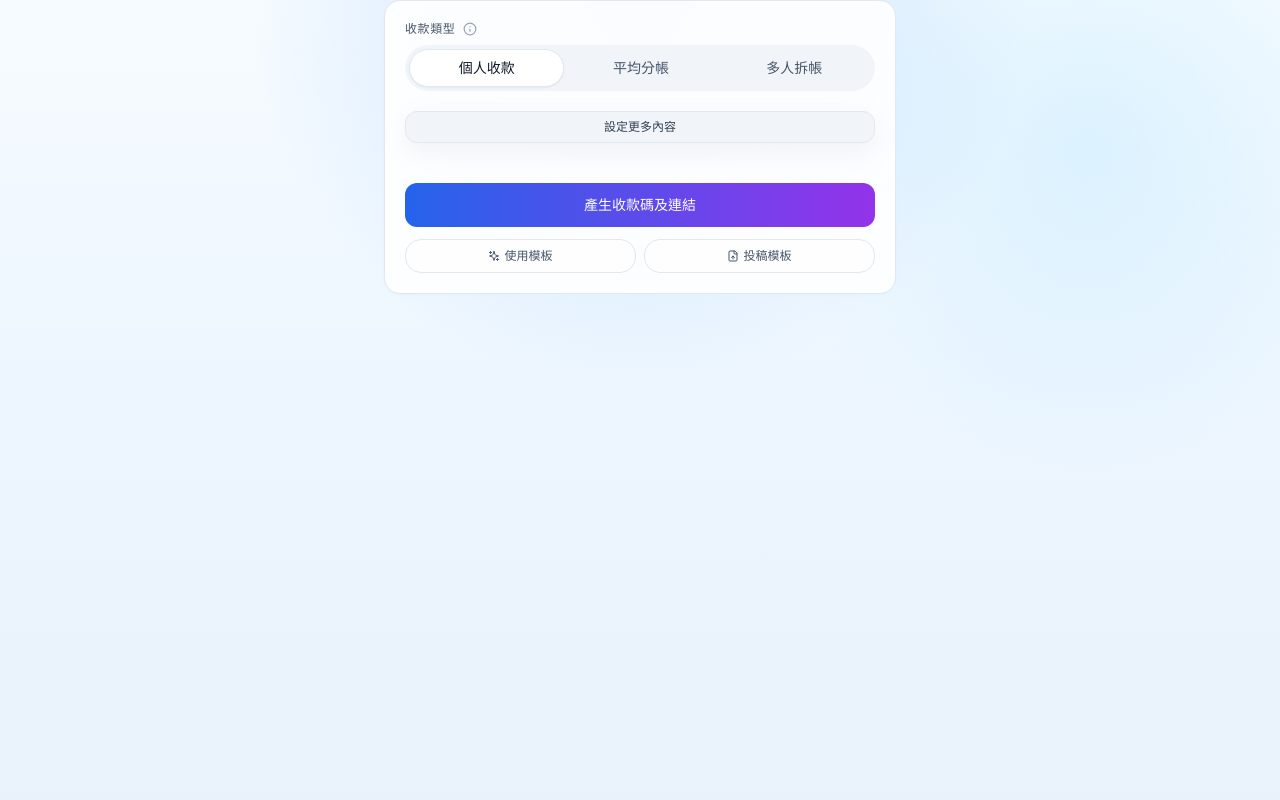
it: Generator Integration Tests › 多人拆帳流程：新增項目並全選成員，應正確計算總金額
Click the button "多人拆帳": [794, 68] box [718,50,871,86]
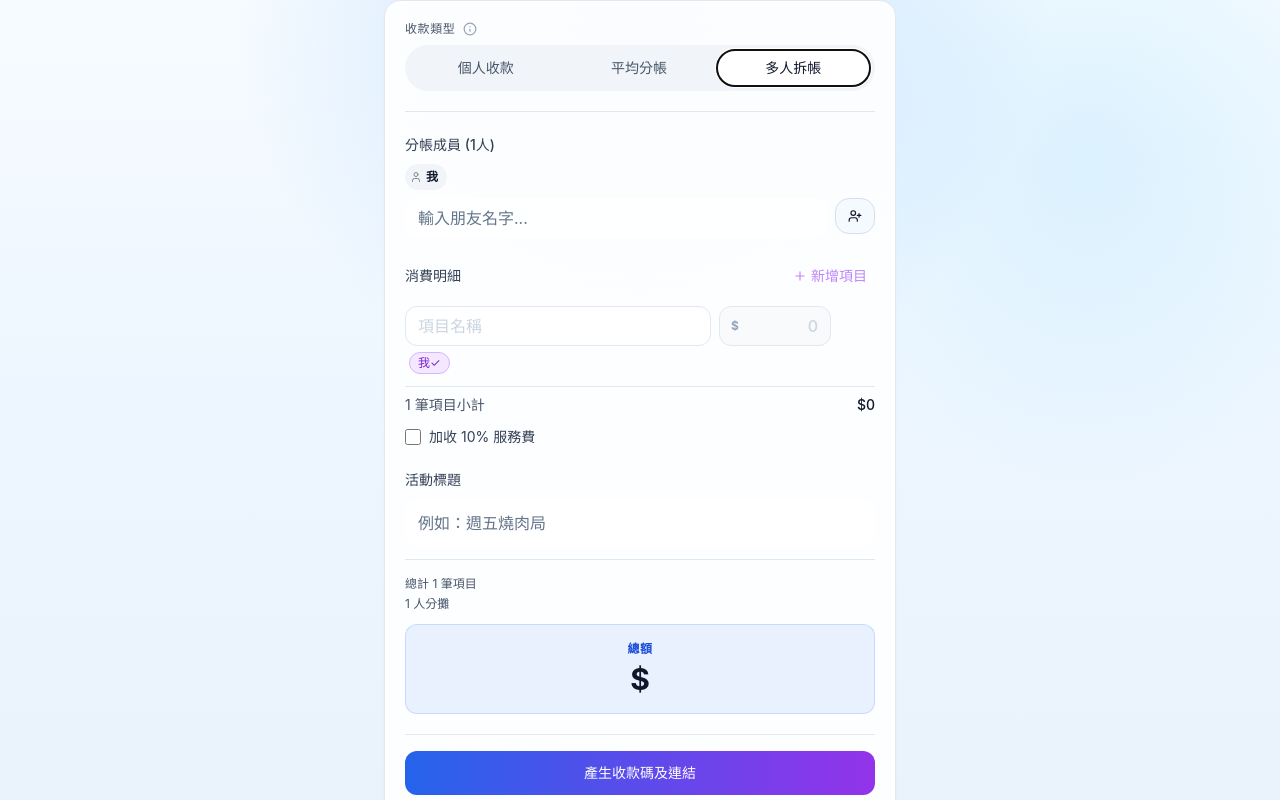
Expected: the field with placeholder "例如：週五燒肉局" is shown
Note: 2. 設定活動標題
In the field with placeholder "例如：週五燒肉局": [640, 523] box [405,499,875,547], type "KTV Night"
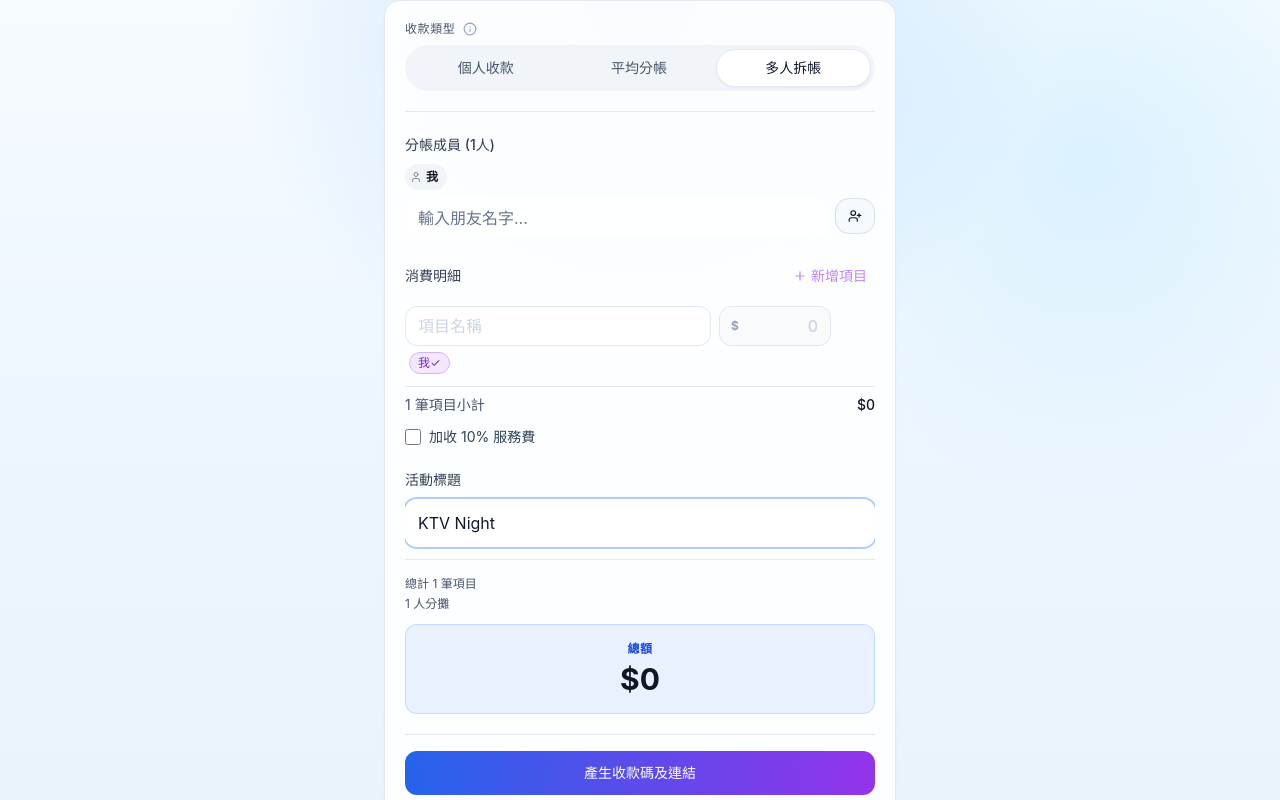
Note: 新增成員 "Bob" (預設已有 "我")
In the field with placeholder "輸入朋友名字...": [616, 218] box [405,198,827,238], type "Bob"
Then press Enter
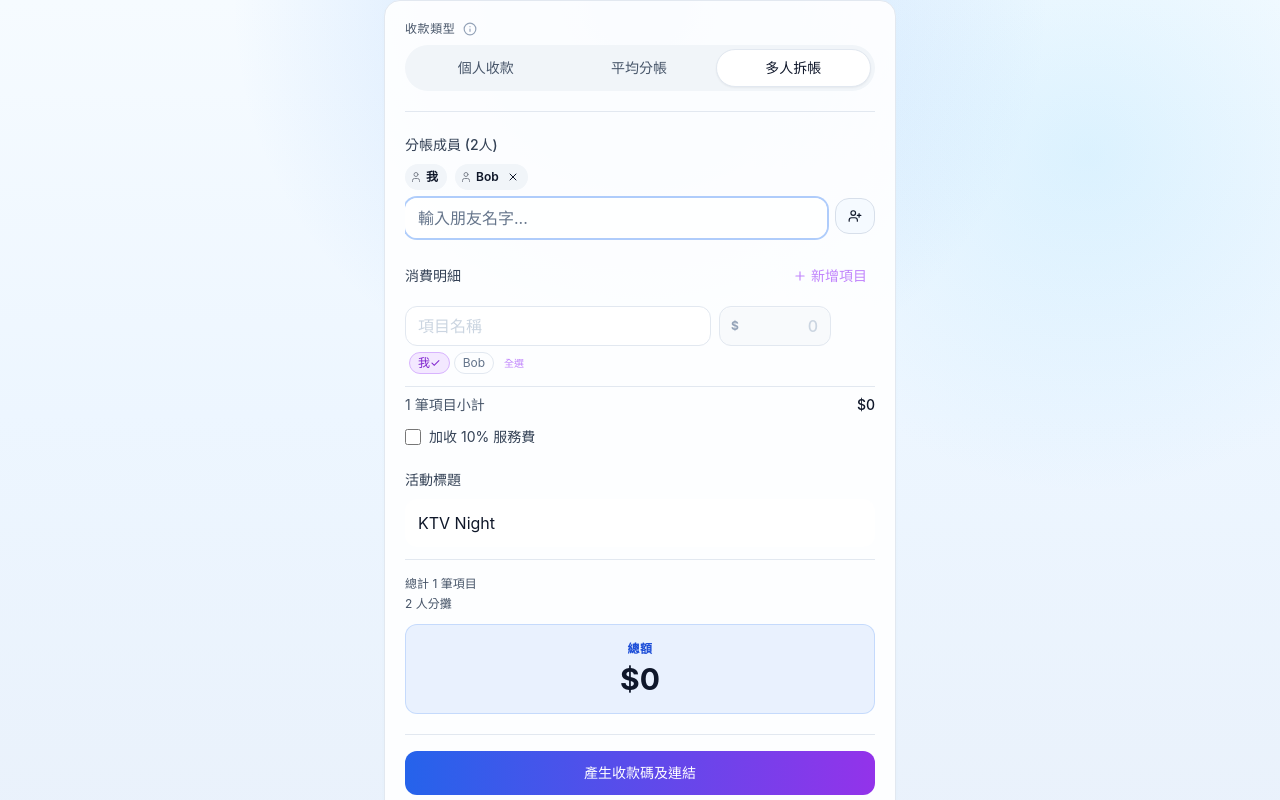
Note: 4. 新增消費項目
Click the button "新增項目": [830, 276] box [785,258,875,294]
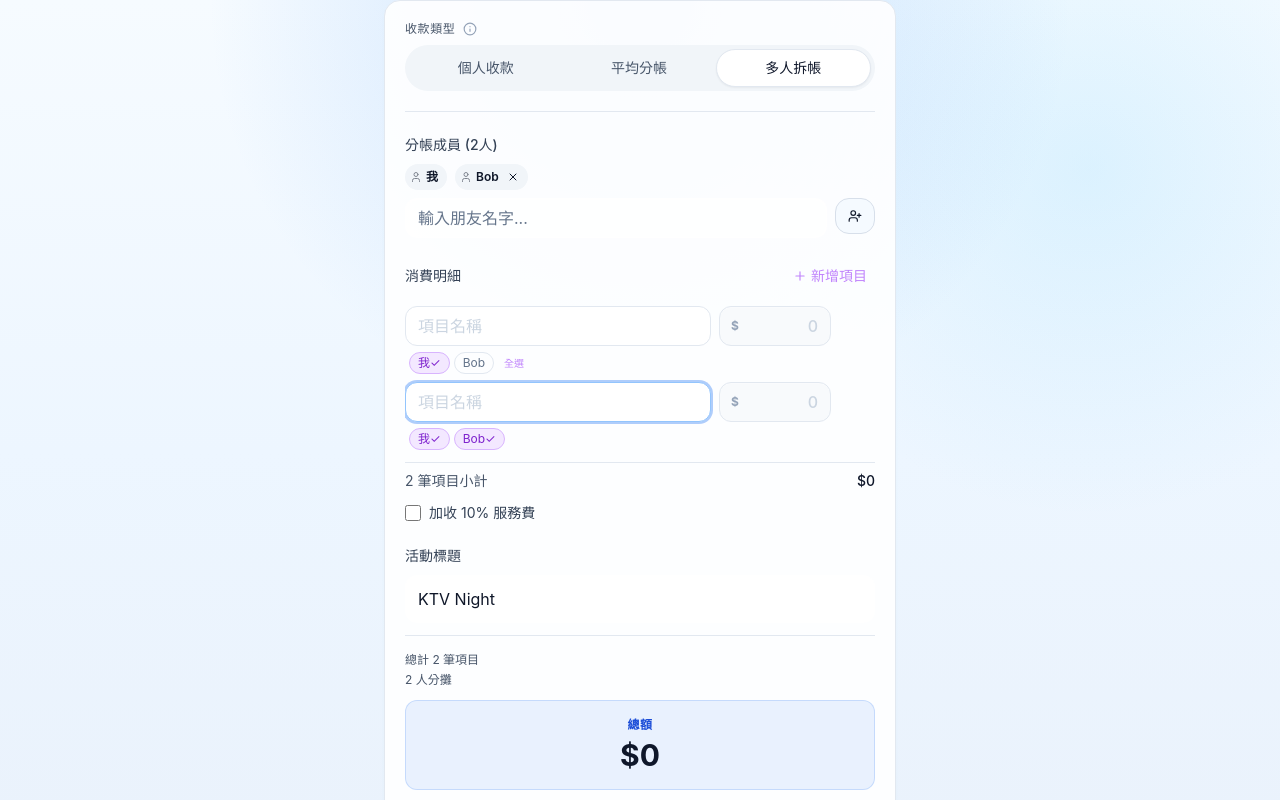
Expected: the 1st number field with placeholder "0" is shown, [719,306,831,346]
In the 2nd number field with placeholder "0": [775, 402] box [719,382,831,422], type "1000"
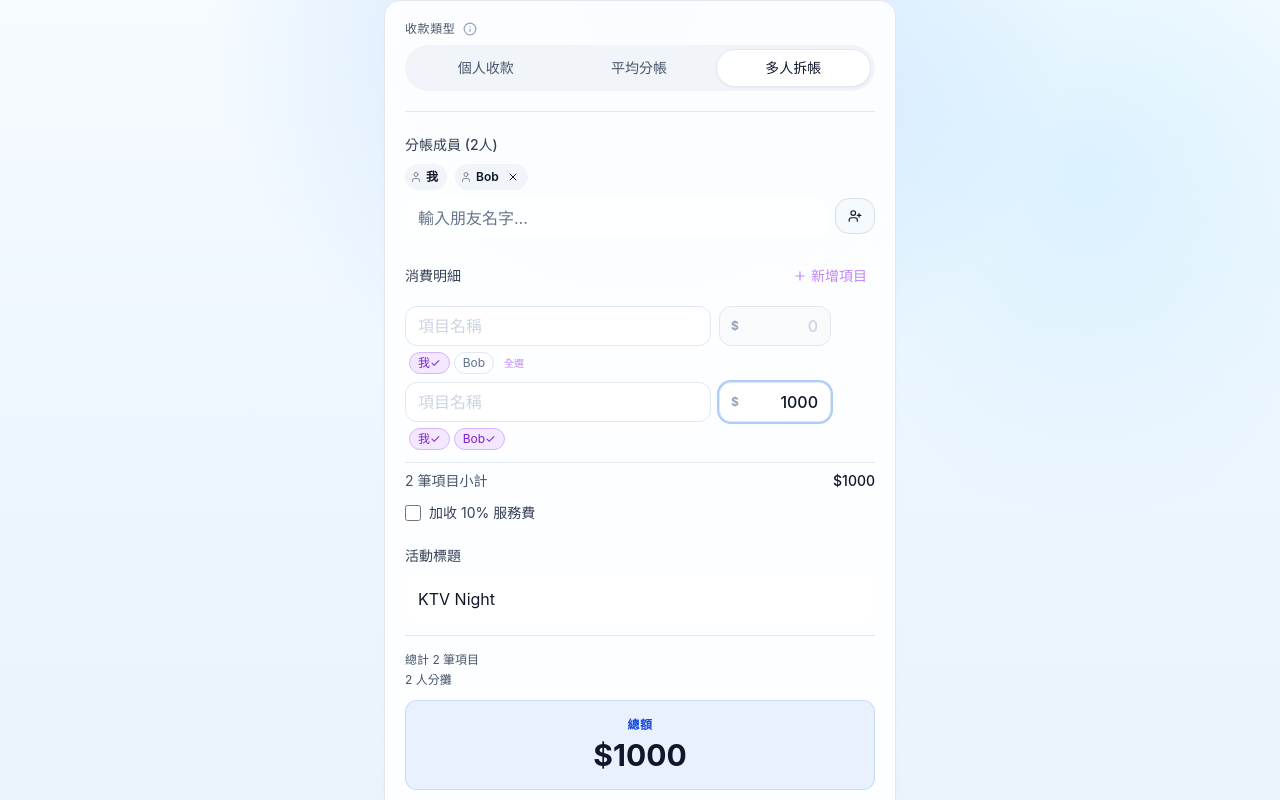
Expected: the text "$1000" in the row of "筆項目小計" is shown, [833,471,875,491]
